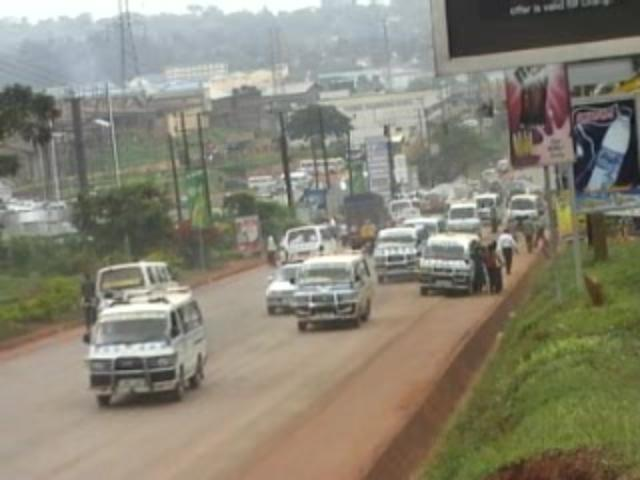car: (263, 264, 296, 316)
van: (86, 283, 205, 402), (294, 253, 370, 328), (418, 235, 469, 292), (370, 228, 421, 279), (95, 263, 183, 286), (281, 227, 339, 252)
